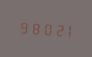eight: (29, 18, 39, 36)
nine: (18, 18, 28, 35)
one: (62, 21, 72, 38)
two: (51, 20, 61, 38)
zero: (40, 19, 50, 37)
